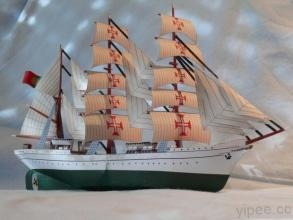fanchuan: (10, 3, 291, 192)
